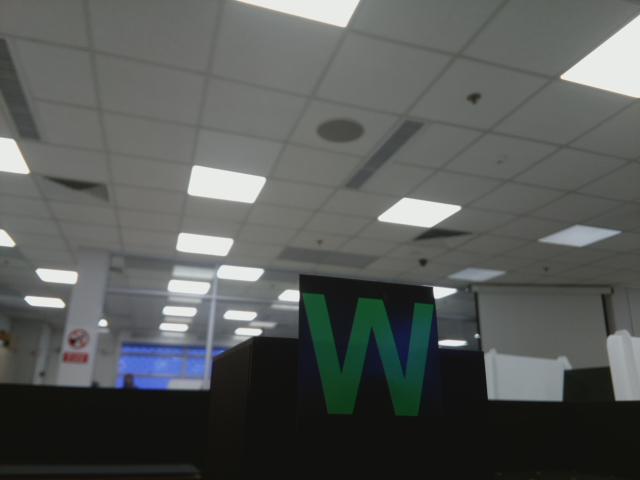w: (299, 283, 438, 425)
